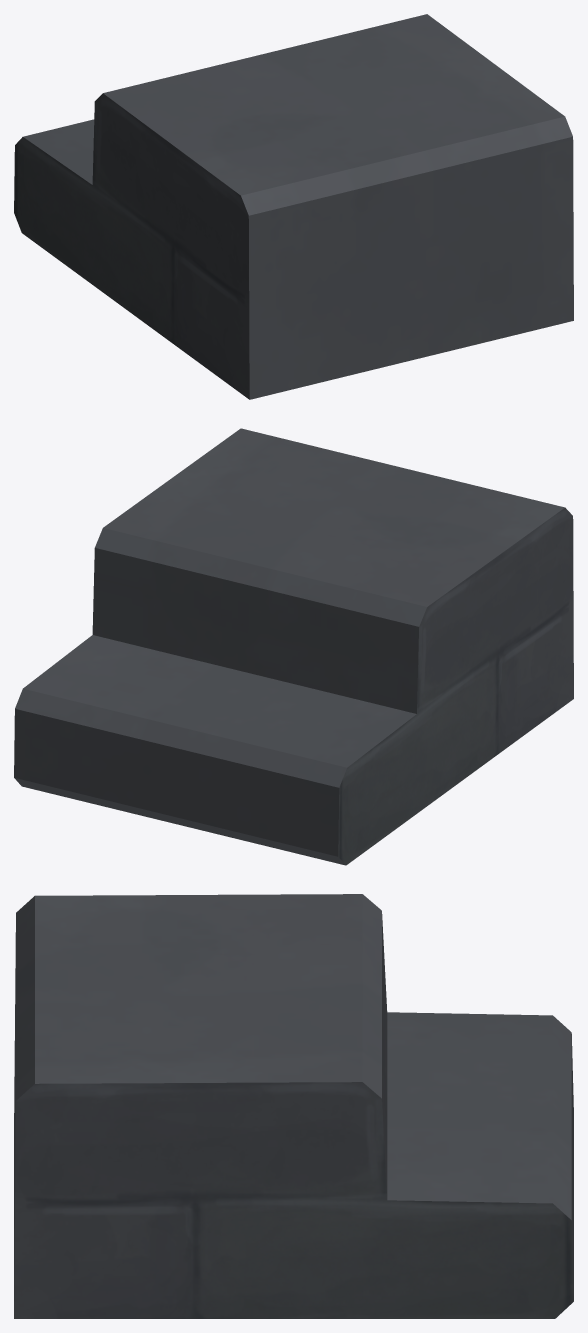
File: SM_Rubble_Corner_02.fbx
The picture shows the model from 3 angles, top to bottom: view 1: azimuth 30°, elevation 25°; view 2: azimuth 150°, elevation 25°; view 3: azimuth 270°, elevation 25°; orthographic projection. The views are drawn at different scales.
Parts seen in each view (by area): view 1: SM_Rubble_Corner_02; view 2: SM_Rubble_Corner_02; view 3: SM_Rubble_Corner_02.
Boxes of the visible parts, x1,y1,x2,y2 form: SM_Rubble_Corner_02: (14, 14, 573, 399); SM_Rubble_Corner_02: (14, 428, 573, 865); SM_Rubble_Corner_02: (14, 894, 573, 1318).
Bounding box in the file's own units: 95.83 × 56.28 × 121.
